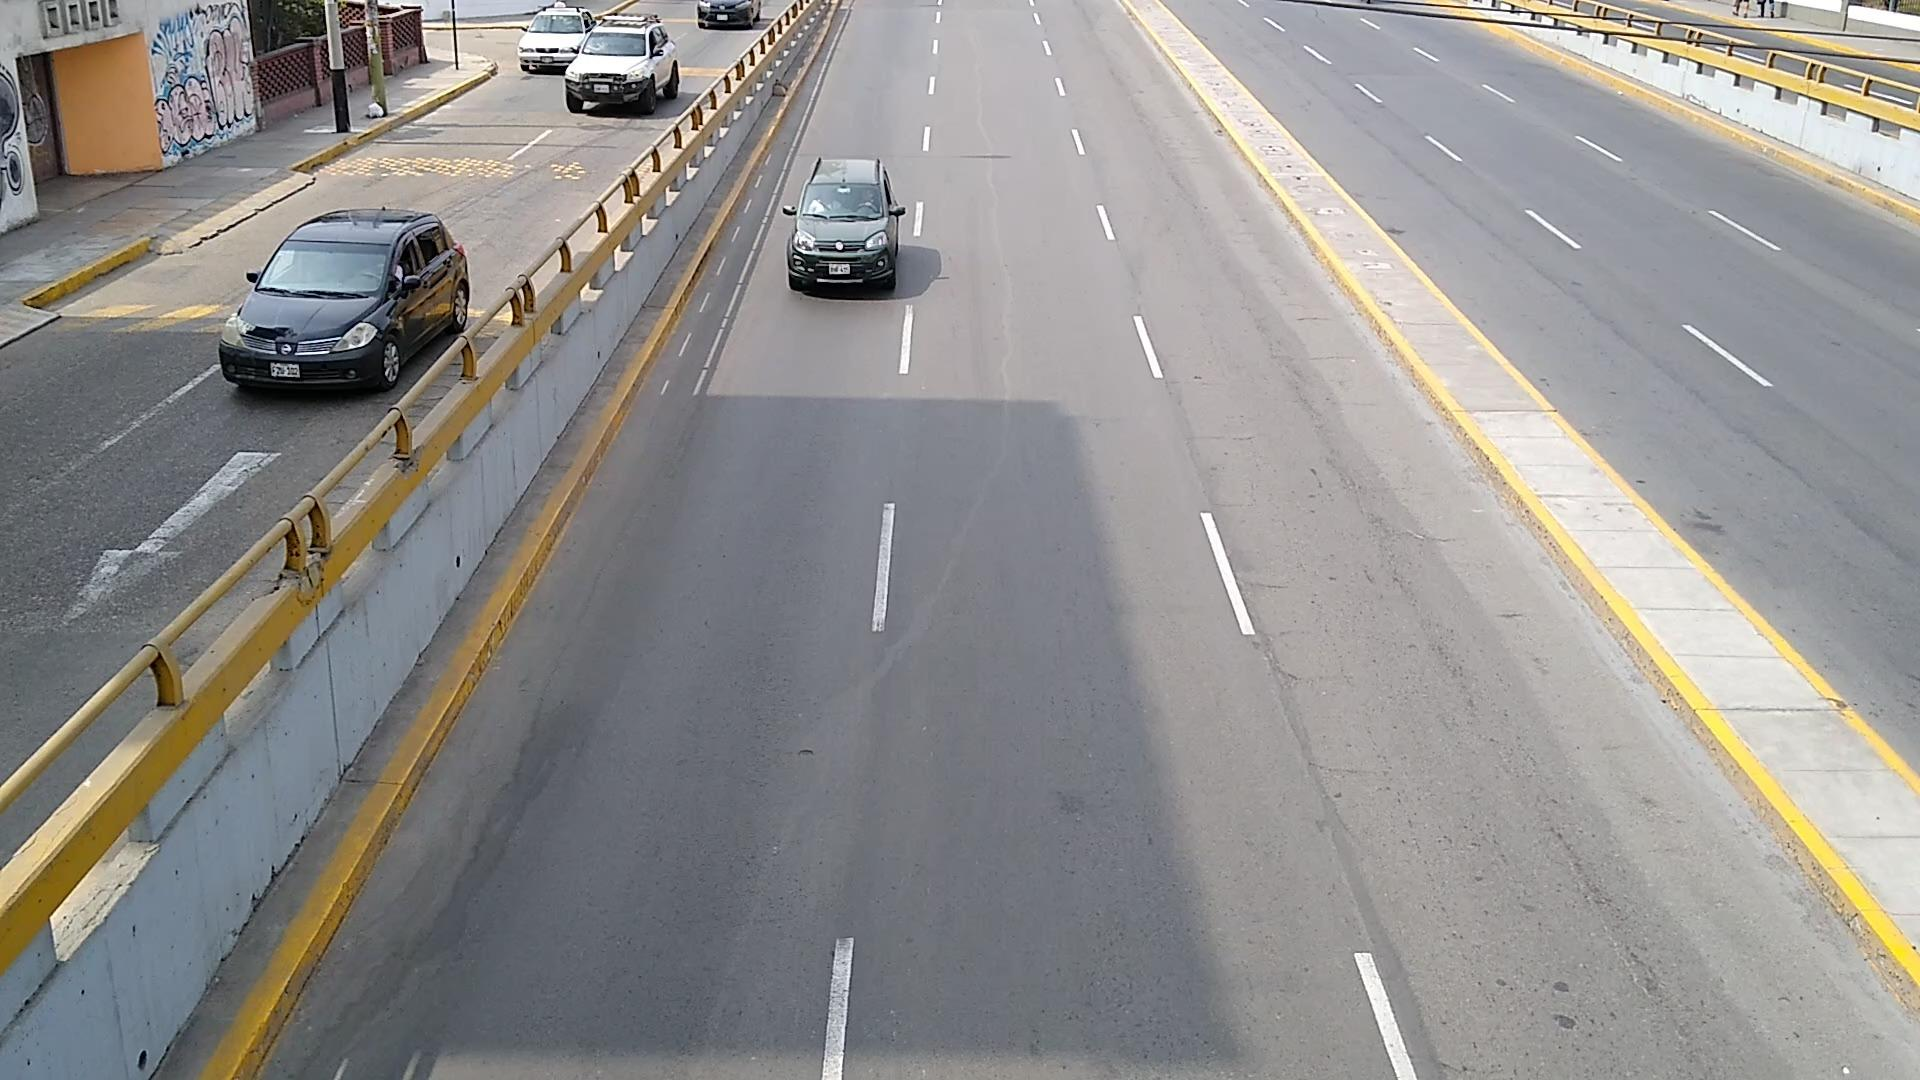car: (222, 210, 468, 388), (783, 157, 903, 293), (566, 15, 679, 112), (517, 4, 596, 71)
